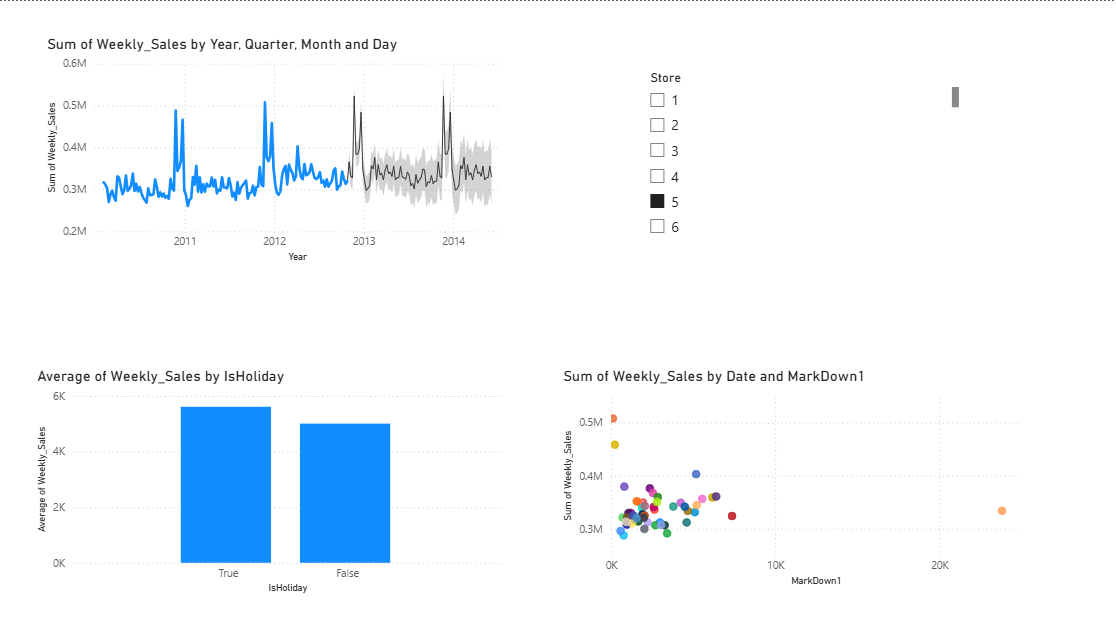

The dashboard page shown, as its layout file describes it:
{"tool":"powerbi","page":{"name":"Page 1","canvas":[1280,720],"ordinal":0},"visuals":[{"type":"lineChart","fields":{"Y":["Sum(train.Weekly_Sales)"],"Category":["train.Date.Variation.Date Hierarchy.Year","train.Date.Variation.Date Hierarchy.Quarter","train.Date.Variation.Date Hierarchy.Month","train.Date.Variation.Date Hierarchy.Day"]},"box":[49.4,38.4,531,264.8],"z":0},{"type":"slicer","fields":{"Values":["train.Store"]},"box":[731.4,74.1,370.5,203.1],"z":1},{"type":"clusteredColumnChart","fields":{"Category":["train.IsHoliday"],"Y":["Avg(train.Weekly_Sales)"]},"box":[38.4,418.5,542,263.5],"z":2},{"type":"scatterChart","fields":{"Y":["Sum(train.Weekly_Sales)"],"X":["train.MarkDown1"],"Series":["train.Date"]},"box":[640,418.8,543.8,255],"z":3}]}

Visuals, with their boxes in screenshot pixels (x1, y1, x2, y2), scaled from the page's 1280x720 canvas onto the 1116x628 screenshot:
lineChart - Sum(train.Weekly_Sales) x train.Date.Variation.Date Hierarchy.Year: l=43, t=33, r=506, b=264
slicer - train.Store: l=638, t=65, r=961, b=242
clusteredColumnChart - train.IsHoliday x Avg(train.Weekly_Sales): l=33, t=365, r=506, b=595
scatterChart - Sum(train.Weekly_Sales) x train.MarkDown1: l=558, t=365, r=1032, b=588
